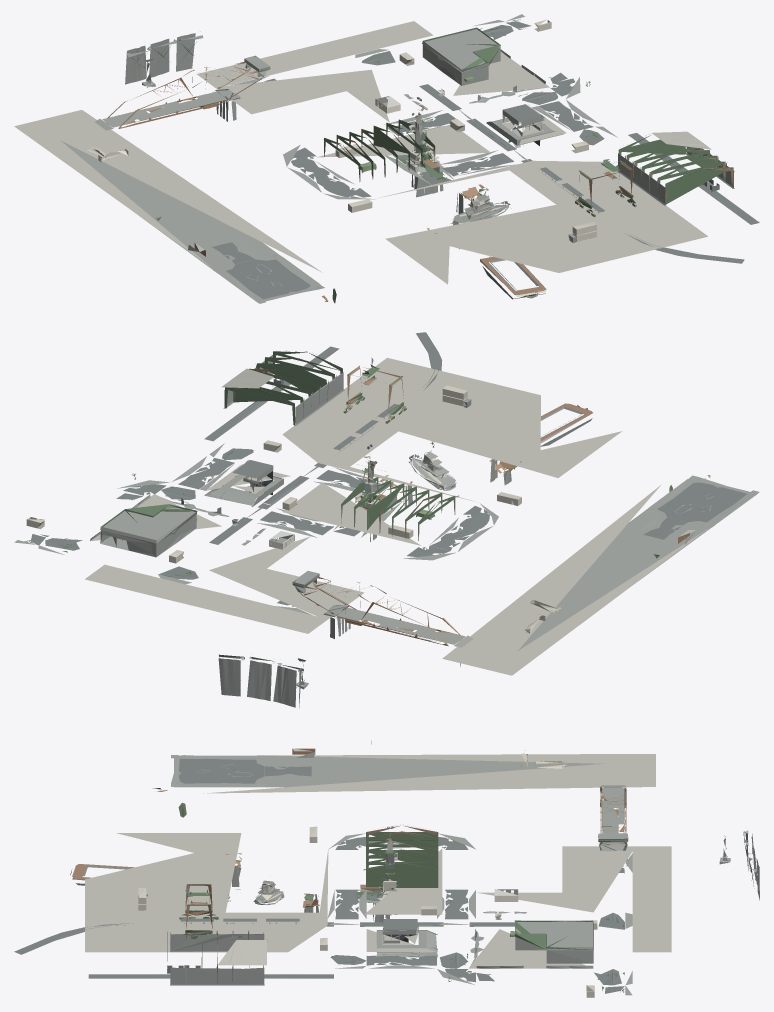
The model's file is harbor_2.glb.
3 views of the same model, one above another, from view 1: azimuth 30°, elevation 25°; view 2: azimuth 150°, elevation 25°; view 3: azimuth 270°, elevation 25° (orthographic). The views are drawn at different scales.
Parts seen in each view (by area): view 1: shipping_container_900_a_LOD0, concrete_slabs_9x3_fade_a_LOD0, crane_base_a_LOD0, tire_stack_c_LOD0, lightpost_a_LOD0; view 2: shipping_container_900_a_LOD0, concrete_slabs_9x3_fade_a_LOD0, crane_base_a_LOD0, tire_stack_c_LOD0, lightpost_a_LOD0; view 3: shipping_container_900_a_LOD0, concrete_slabs_9x3_fade_a_LOD0, crane_base_a_LOD0, tire_stack_c_LOD0, lightpost_a_LOD0.
Boxes of the visible parts, box(x1,y1,x2,y2) form: shipping_container_900_a_LOD0: box(14, 21, 711, 284); concrete_slabs_9x3_fade_a_LOD0: box(60, 14, 734, 303); crane_base_a_LOD0: box(87, 19, 759, 299); tire_stack_c_LOD0: box(244, 19, 733, 276); lightpost_a_LOD0: box(103, 61, 733, 301); shipping_container_900_a_LOD0: box(85, 357, 708, 675); concrete_slabs_9x3_fade_a_LOD0: box(14, 355, 759, 707); crane_base_a_LOD0: box(26, 332, 746, 707); tire_stack_c_LOD0: box(24, 350, 706, 606); lightpost_a_LOD0: box(226, 351, 710, 646); shipping_container_900_a_LOD0: box(85, 748, 671, 968); concrete_slabs_9x3_fade_a_LOD0: box(70, 755, 759, 995); crane_base_a_LOD0: box(14, 750, 759, 997); tire_stack_c_LOD0: box(167, 765, 628, 992); lightpost_a_LOD0: box(72, 748, 626, 967).
Size of the model in its own units: 222 by 42.35 by 286.
